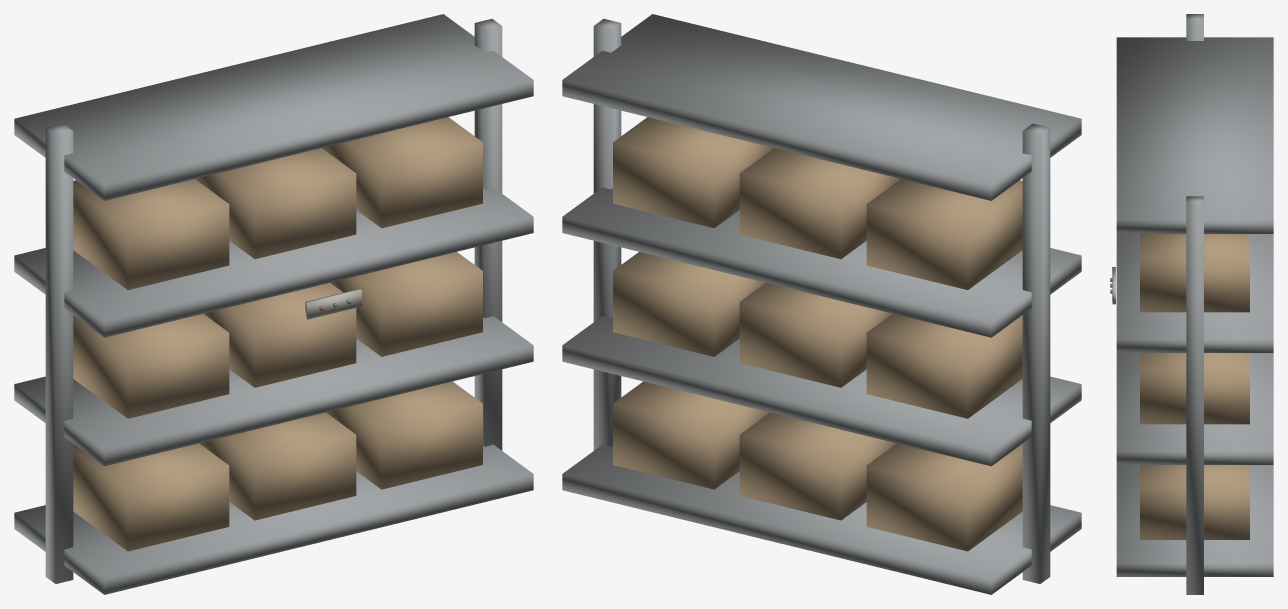
Rendered from print_drying_rack.glb.
3 renders of one model, left to right at view 1: azimuth 30°, elevation 25°; view 2: azimuth 150°, elevation 25°; view 3: azimuth 270°, elevation 25°, orthographic. The views are drawn at different scales.
Parts seen in each view (by area): view 1: world; view 2: world; view 3: world.
Part boxes in pixels (bbox=[...]): world: bbox=[14, 14, 533, 594]; world: bbox=[562, 14, 1081, 594]; world: bbox=[1110, 14, 1273, 594].
Size of the model in its own units: 2.29 by 2.2 by 0.831.
